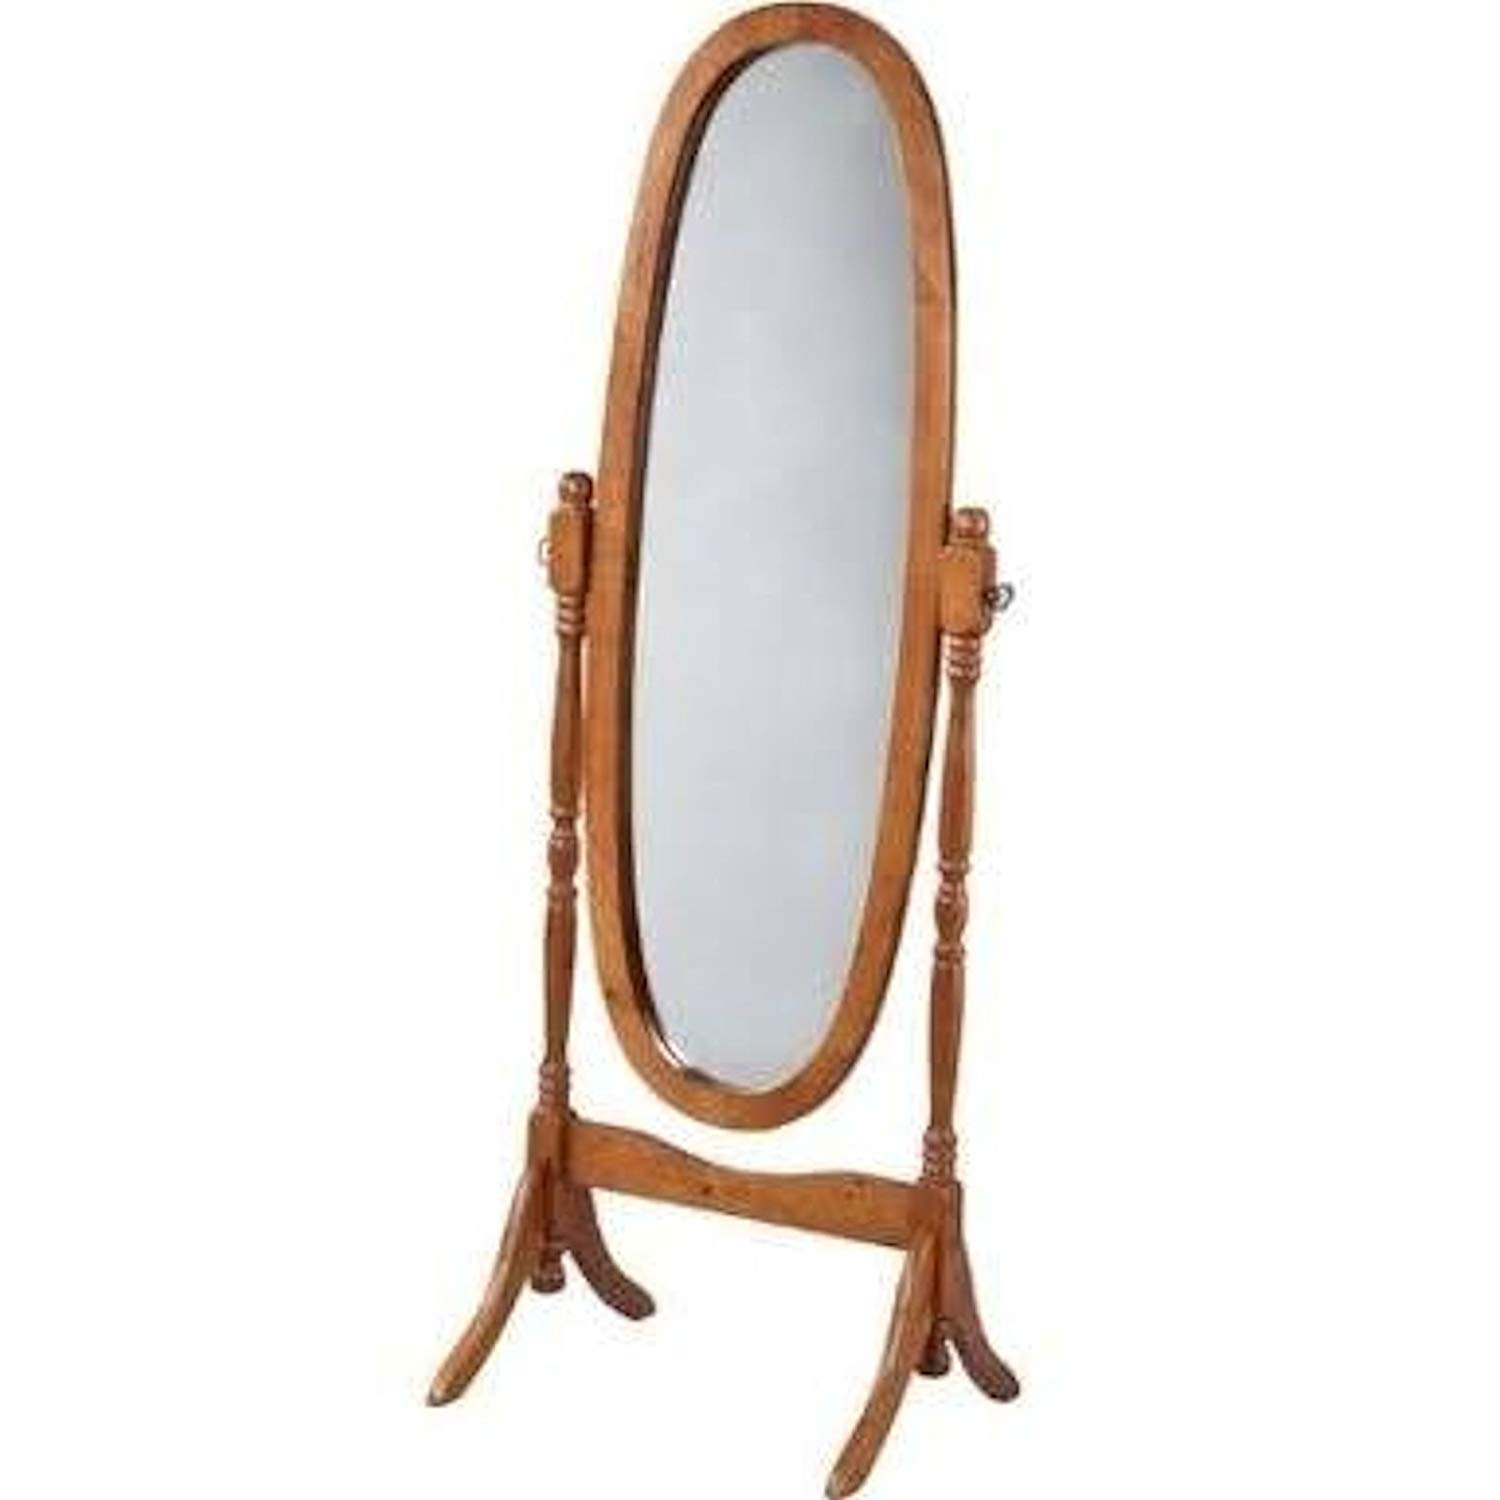Nonrec_Glass: (330, 1, 1207, 1486)
